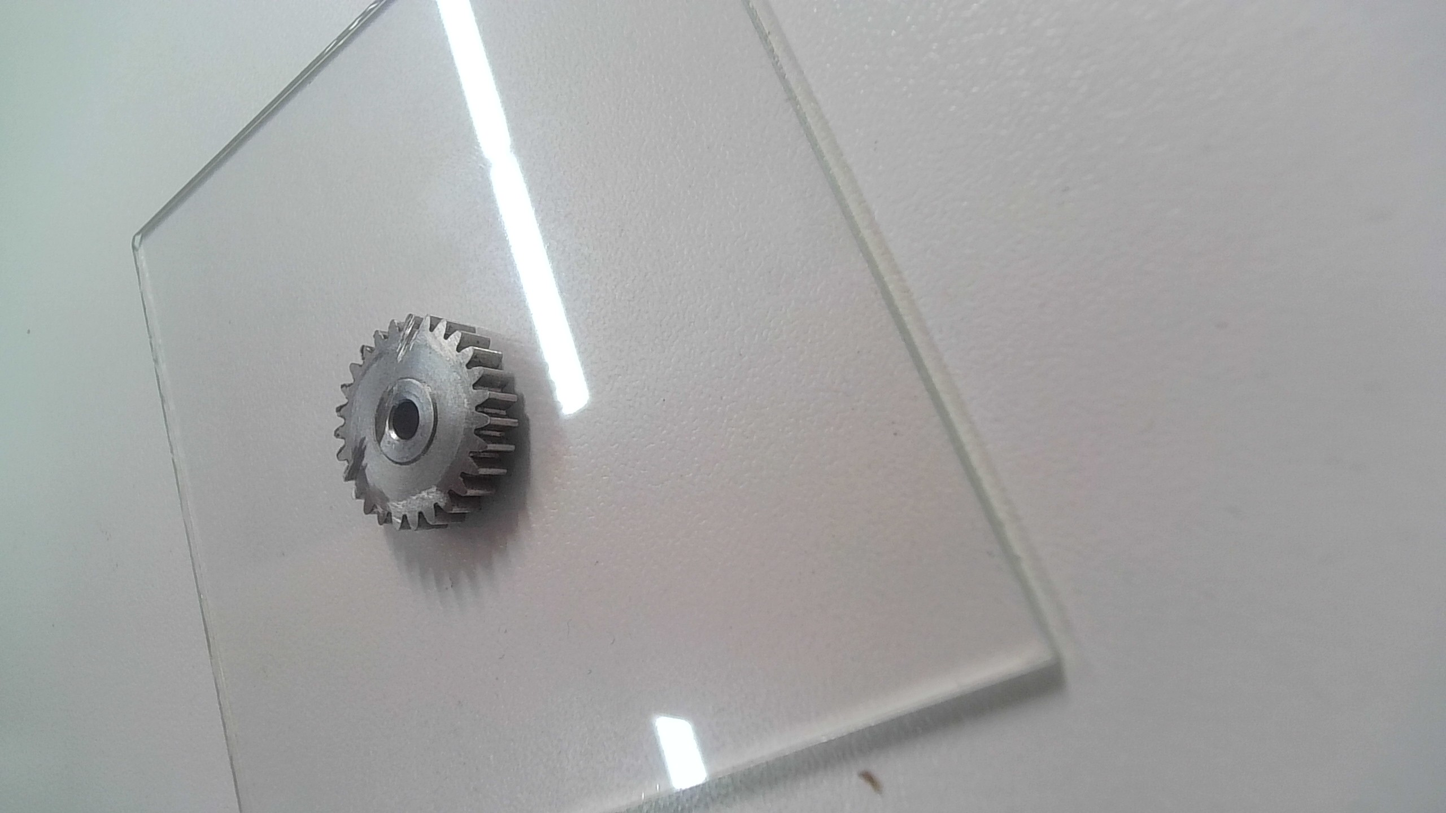gear: (332, 311, 530, 534)
